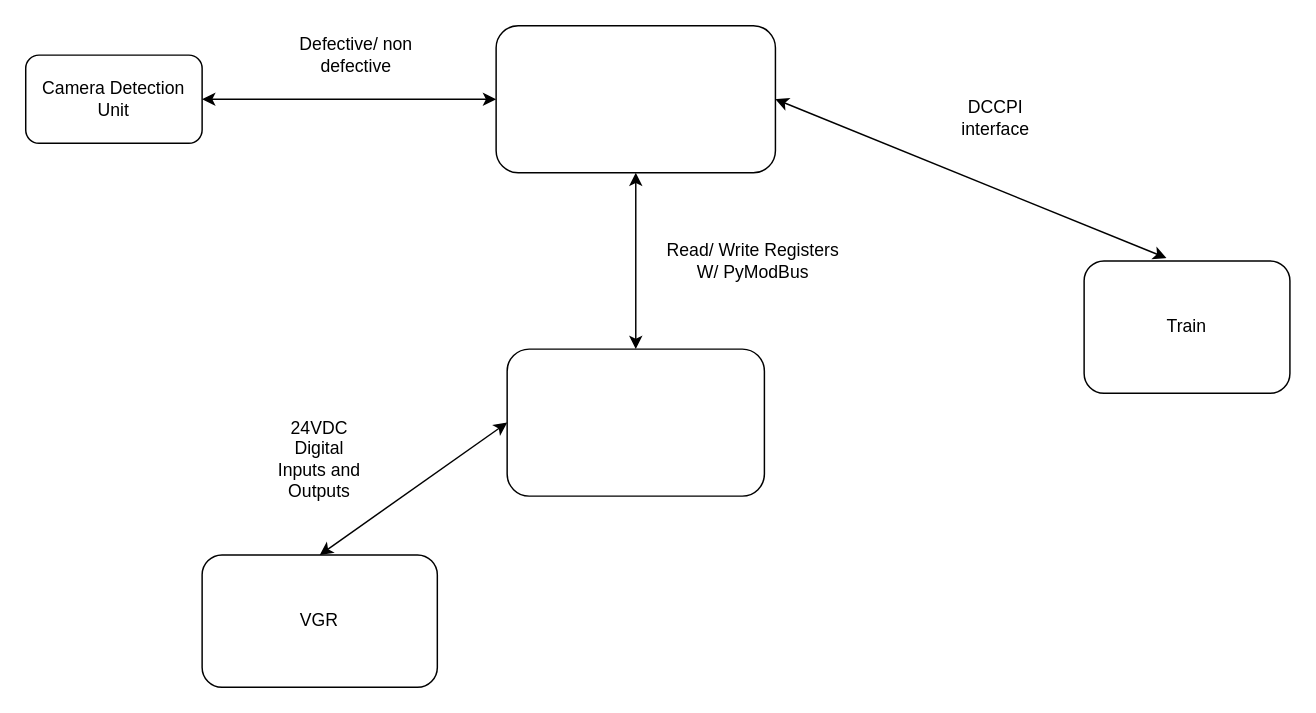
Some shapes in this 1316 by 713 pixel diagram are drawn without their labels. The shapes that lost their labels are listed below. From the top down, each one's box as (x1, y1, x2, y2) in pixels, then its label:
(495, 24, 775, 173): Raspberry Pi 4 Python Control Layer
(506, 348, 764, 496): BRX PLC
